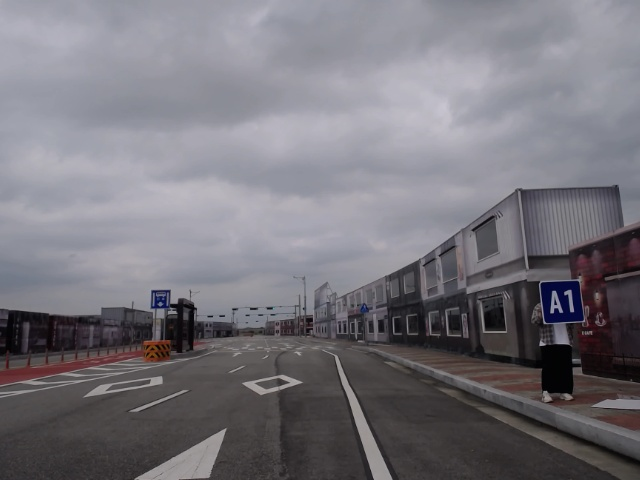delivery_a1: (539, 280, 585, 324)
